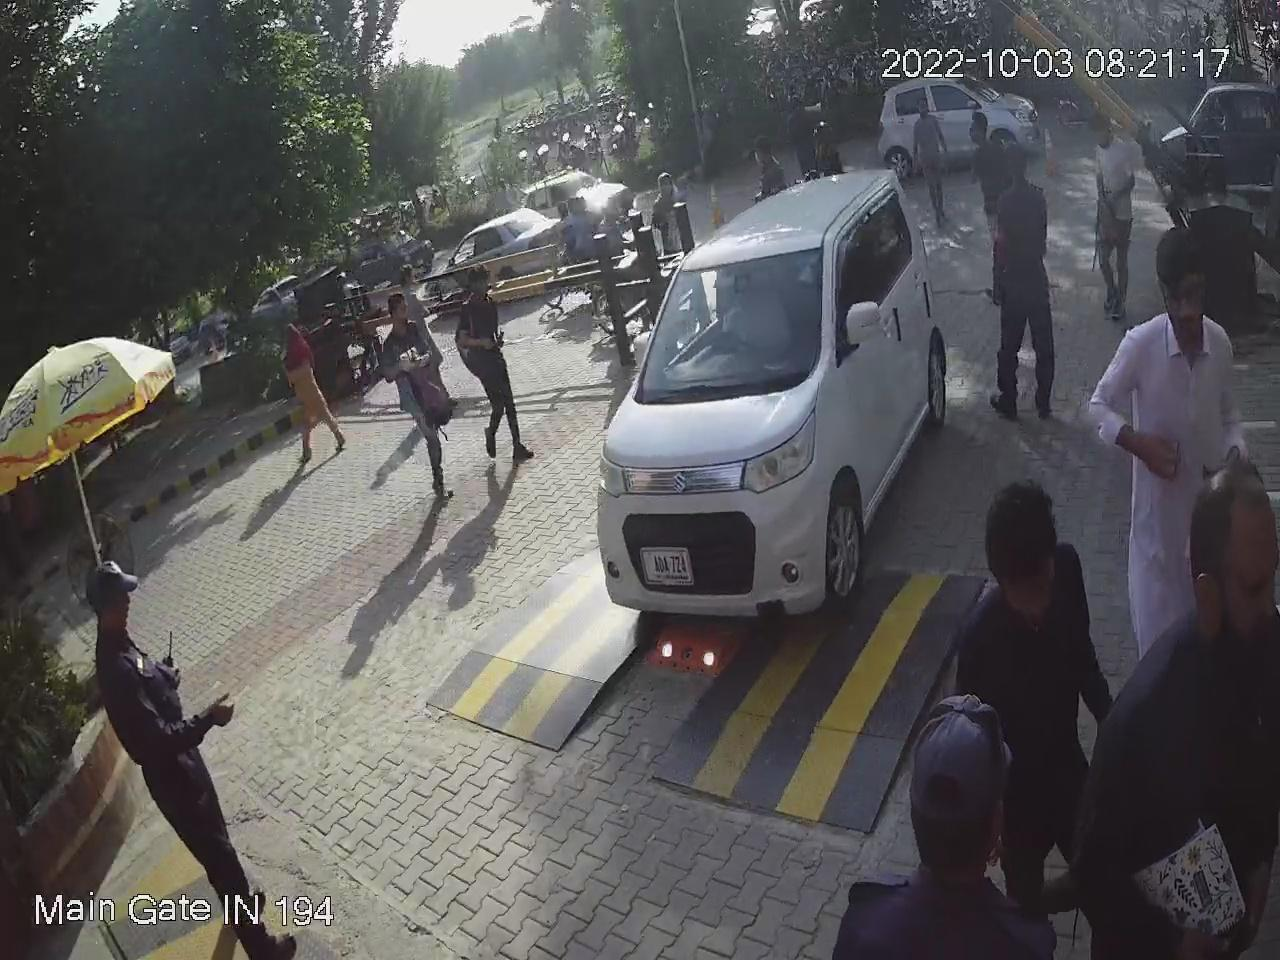windshield: (631, 247, 820, 407)
